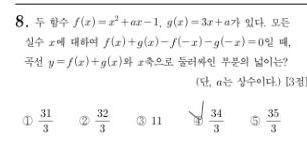choice: (190, 111, 204, 127)
not-choice: (78, 114, 91, 127), (248, 114, 261, 127), (20, 114, 34, 126), (135, 113, 147, 127)
